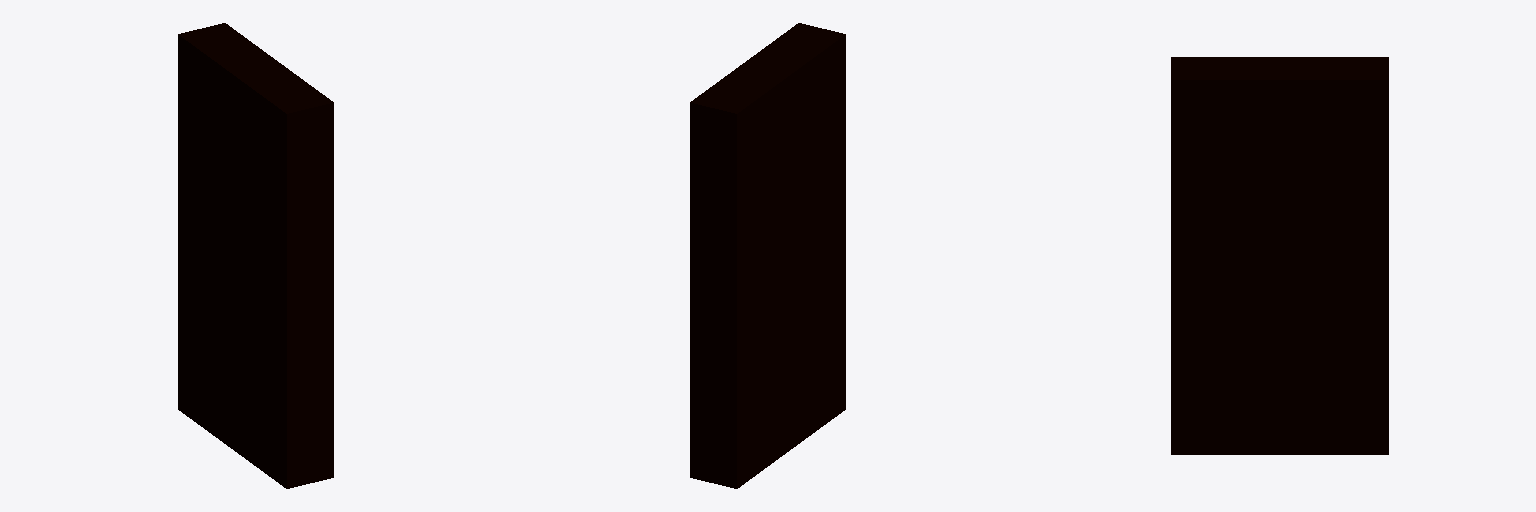
File: Door - Door.obj
3 renders of one model, left to right at view 1: azimuth 30°, elevation 25°; view 2: azimuth 150°, elevation 25°; view 3: azimuth 270°, elevation 25°, orthographic.
Visible parts, largest first — view 1: Door_Cube.001; view 2: Door_Cube.001; view 3: Door_Cube.001.
Part boxes in pixels (bbox=[...]): Door_Cube.001: bbox=[178, 23, 333, 488]; Door_Cube.001: bbox=[690, 23, 845, 488]; Door_Cube.001: bbox=[1171, 57, 1388, 454].
Bounding box in the file's own units: 1 × 7.6 × 4.